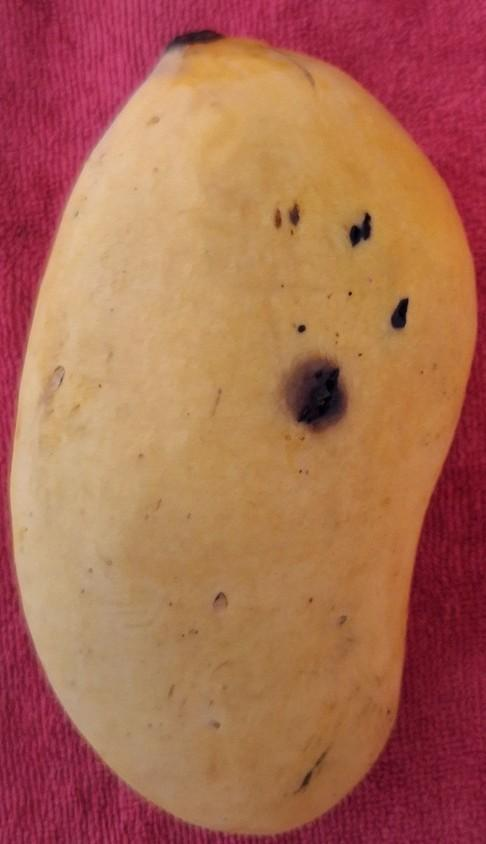mango: (8, 29, 478, 834)
